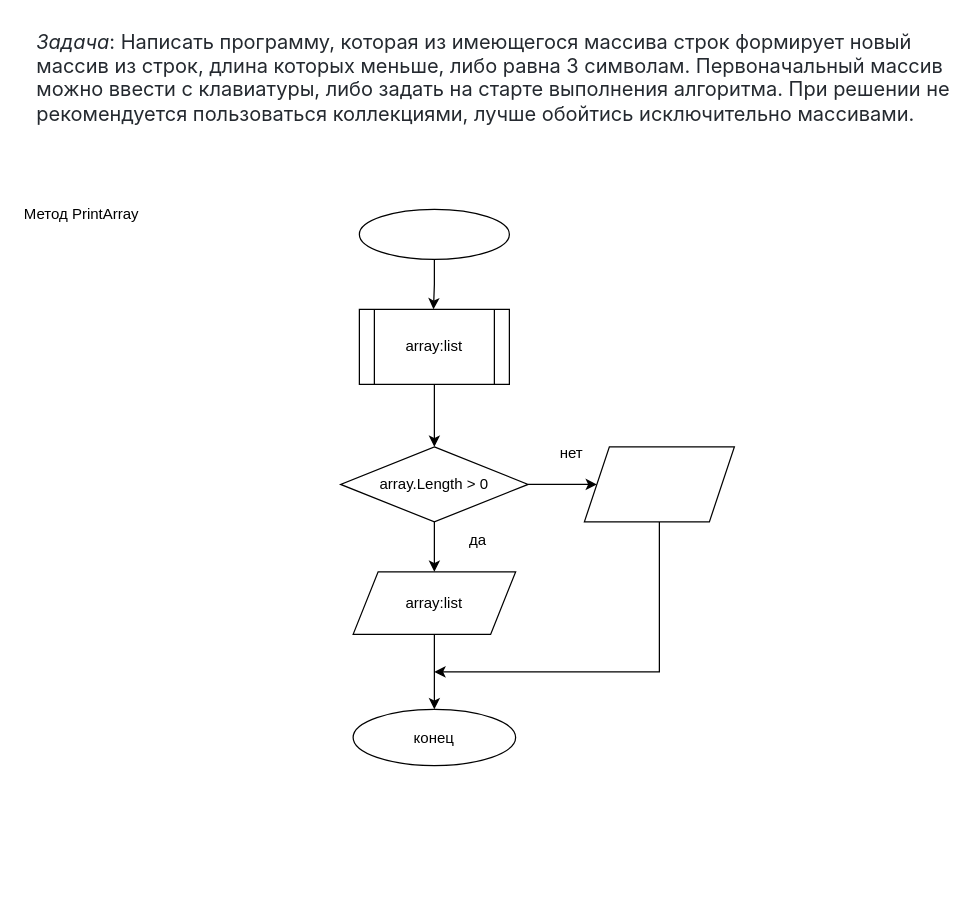
The diagram is 980 pixels wide and 916 high, and some of its shapes have lost their labels. Here are the shapes that lost their labels. From the top down, the centre of each, then its label:
the point at 433,233: начало
the point at 658,484: пустой массив
